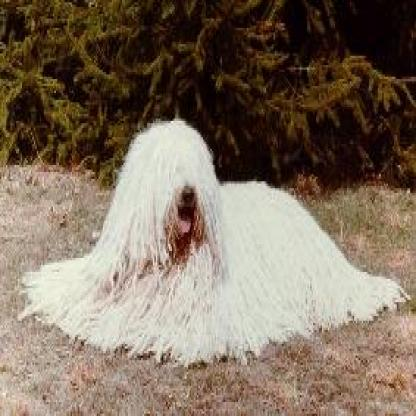komondor: (20, 114, 406, 365)
